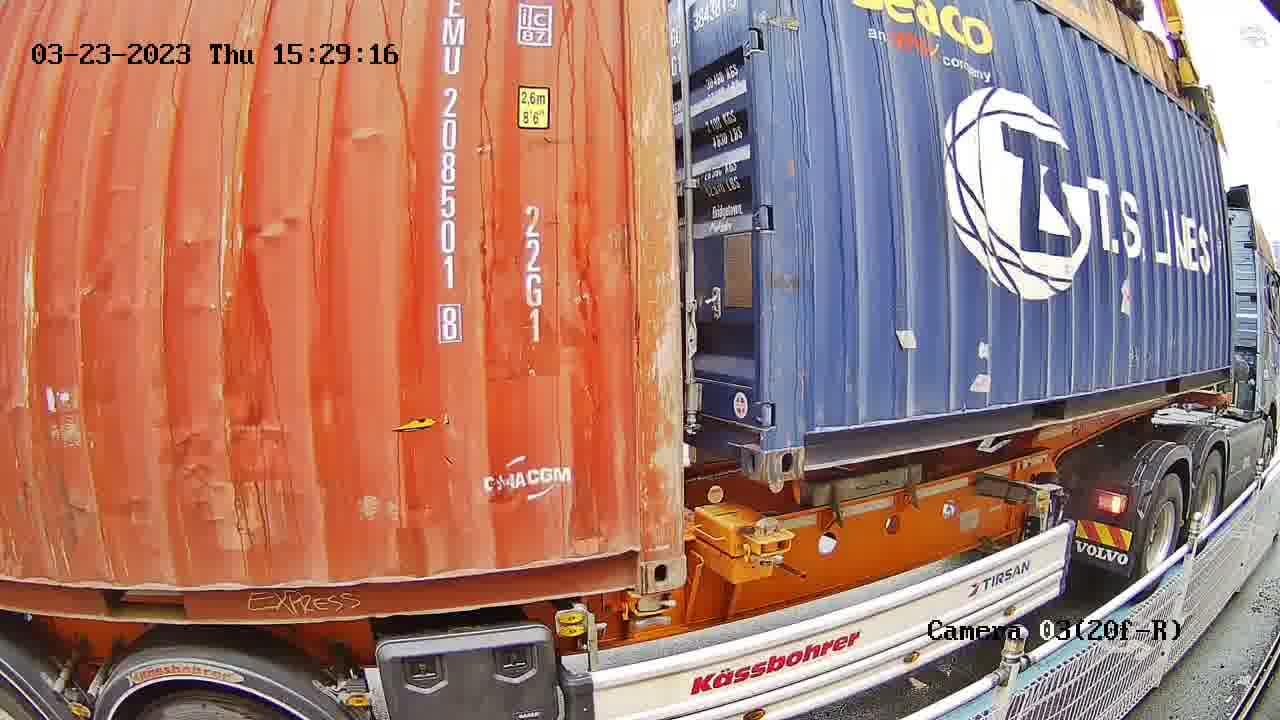Cone: (745, 518, 793, 569), (623, 590, 675, 631)
Hole_L: (764, 409, 840, 480)
Hole_R: (595, 515, 685, 594), (717, 406, 765, 484)
Tire: (1137, 479, 1183, 593), (1190, 452, 1222, 553)
